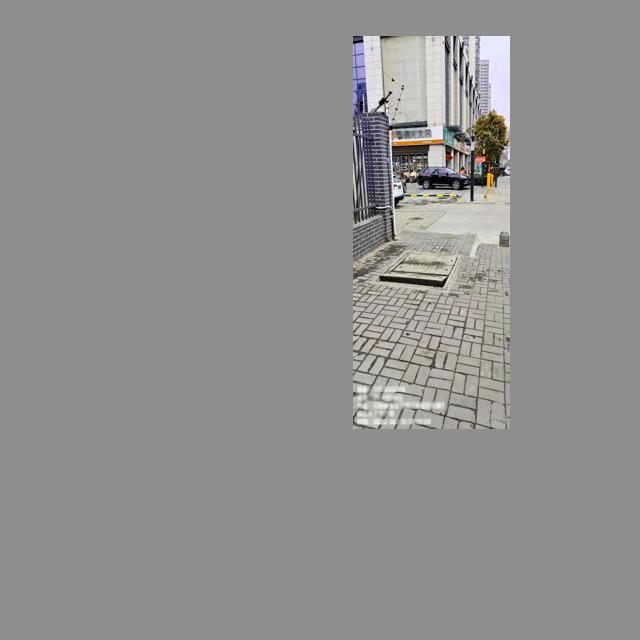uncovered: (376, 251, 460, 288)
